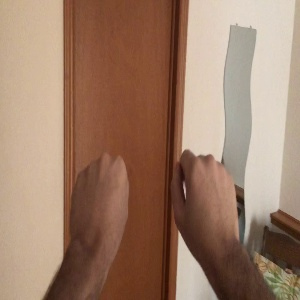hand: (169, 149, 239, 246), (70, 152, 129, 245)
